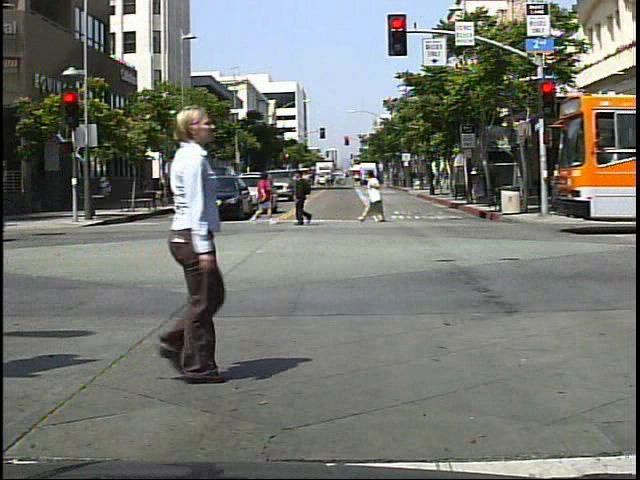person: (104, 92, 273, 398), (289, 162, 320, 230), (247, 168, 277, 227), (362, 167, 390, 227), (554, 160, 564, 207)
